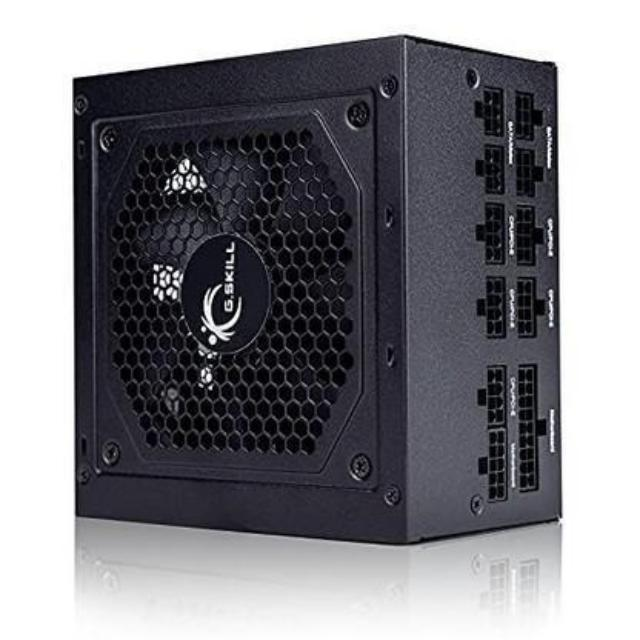PSU: (60, 29, 566, 546)
